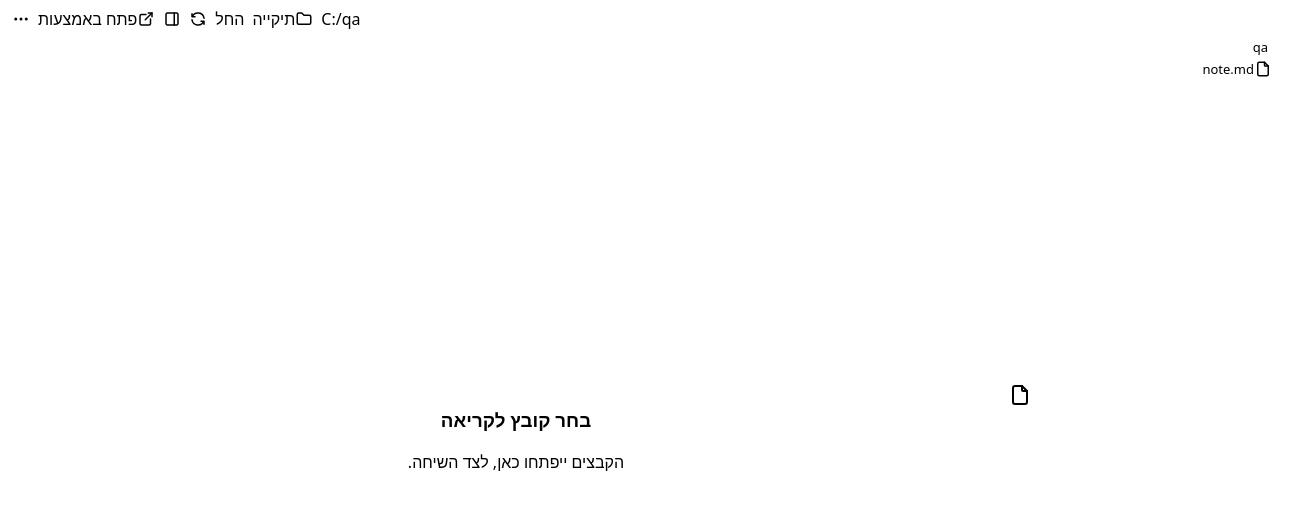
Test: a later successful directory load cannot hide a file preview failure
What coordinates should you click on to do the following:
click the button "note.md"
I would click on:
 (1160, 69)
Its box is [1044, 60, 1276, 78].
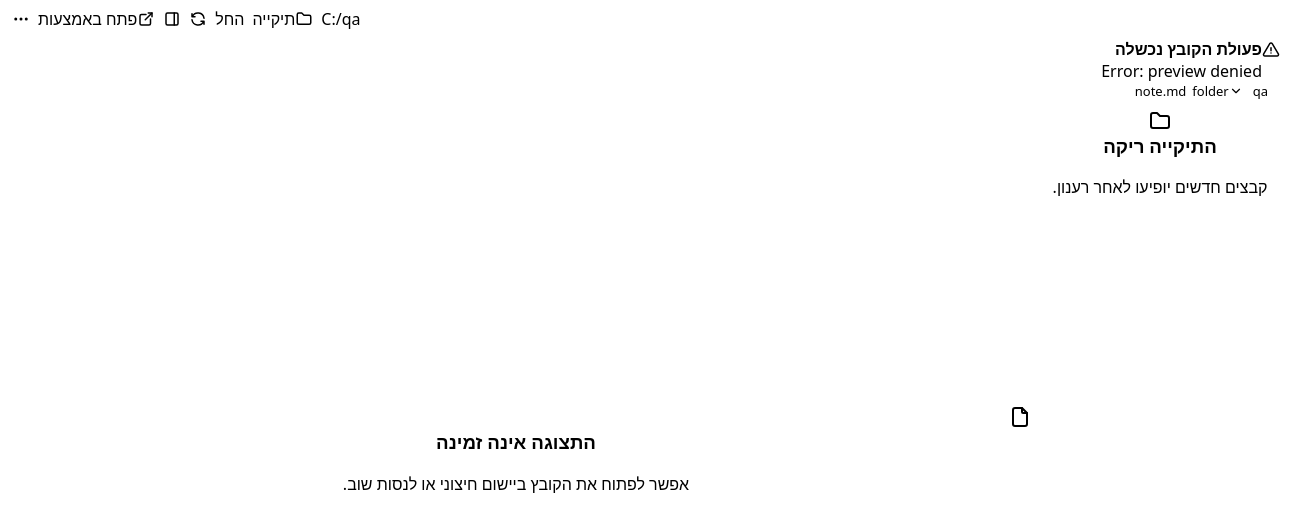
Now the message shows "preview denied", box [1101, 60, 1262, 82]
